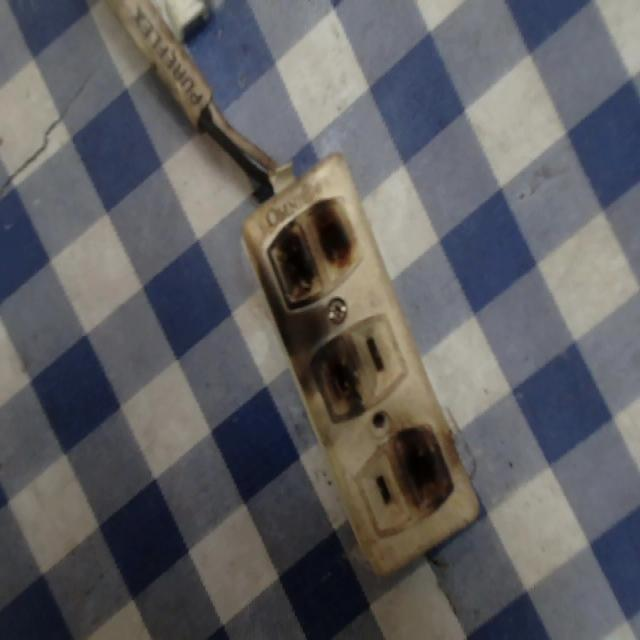-: (260, 182, 362, 306), (391, 418, 462, 518), (309, 332, 368, 423)
